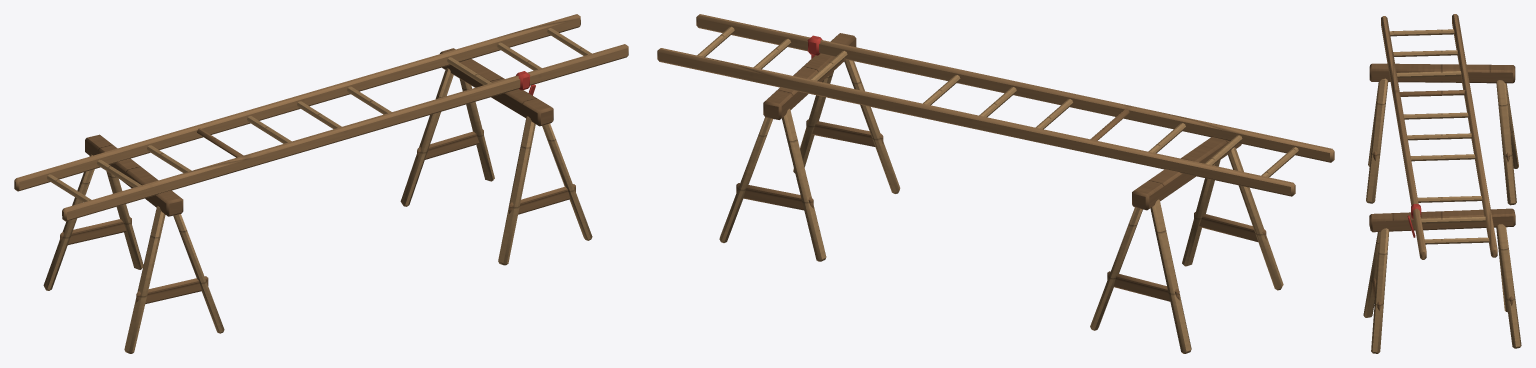
Rendered from ladder.glb.
3 views of the same model, side by side, from view 1: azimuth 30°, elevation 25°; view 2: azimuth 150°, elevation 25°; view 3: azimuth 270°, elevation 25° (orthographic). The views are drawn at different scales.
Visible parts, largest first — view 1: ladder.001; view 2: ladder.001; view 3: ladder.001.
Boxes of the visible parts, box(x1,y1,x2,y2) form: ladder.001: box(14, 14, 628, 353); ladder.001: box(657, 14, 1334, 353); ladder.001: box(1363, 14, 1521, 353).
Size of the model in its own units: 3.52 by 0.9004 by 0.9781.
Materials: 6 (6 with a texture image).
